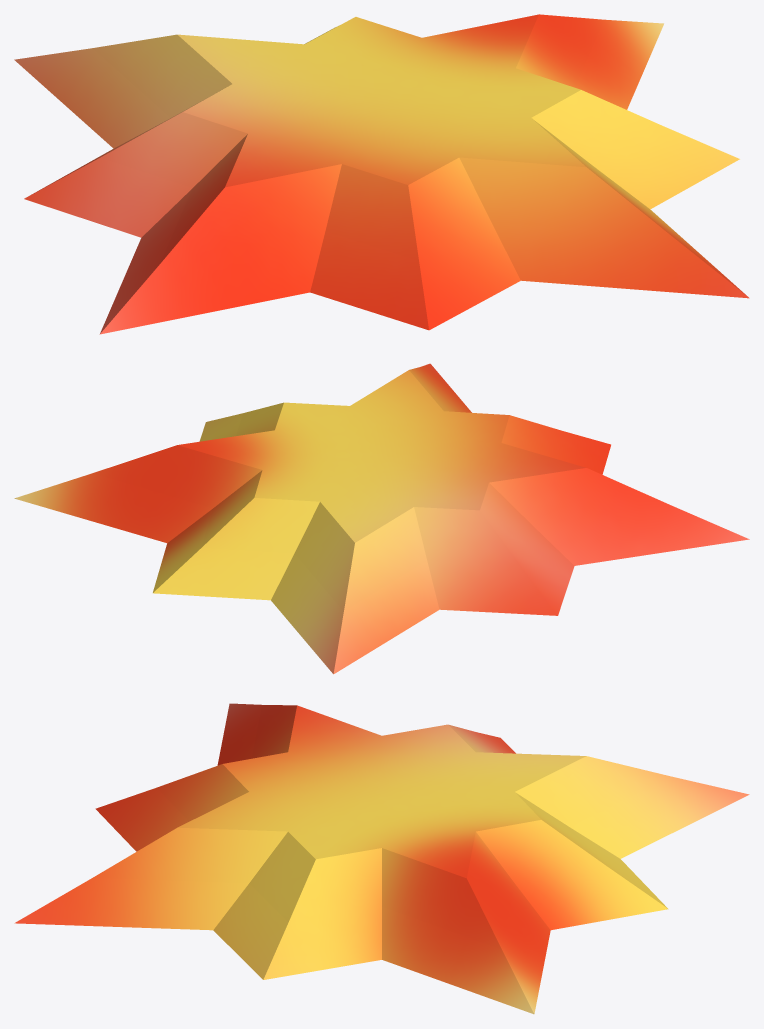
File: bomb.glb
The picture shows the model from 3 angles, top to bottom: view 1: azimuth 30°, elevation 25°; view 2: azimuth 150°, elevation 25°; view 3: azimuth 270°, elevation 25°; orthographic projection. The views are drawn at different scales.
Parts seen in each view (by area): view 1: Circle; view 2: Circle; view 3: Circle.
Boxes of the visible parts, left/top/right/bottom form: Circle: left=14, top=14, right=749, bottom=334; Circle: left=14, top=363, right=749, bottom=674; Circle: left=14, top=703, right=749, bottom=1014.
Bounding box in the file's own units: 5.88 × 0.5917 × 5.88.
Materials: 1 (1 with a texture image).
